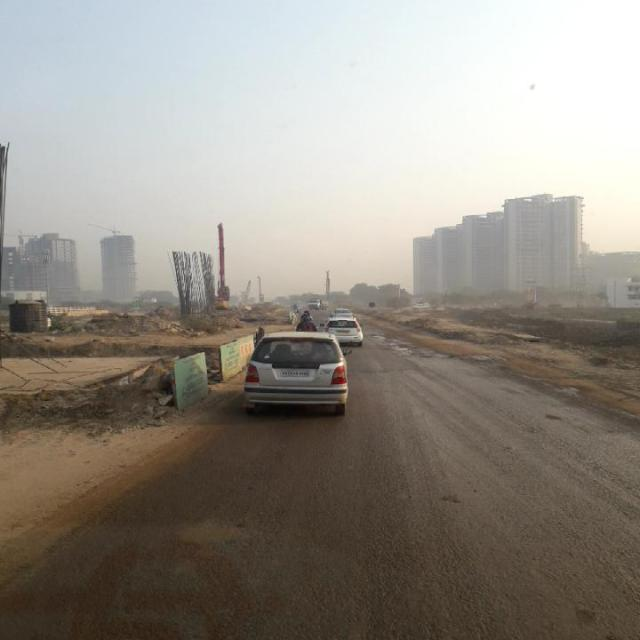Pothole: (189, 504, 240, 546)
Surface Erosion: (323, 279, 528, 446)
